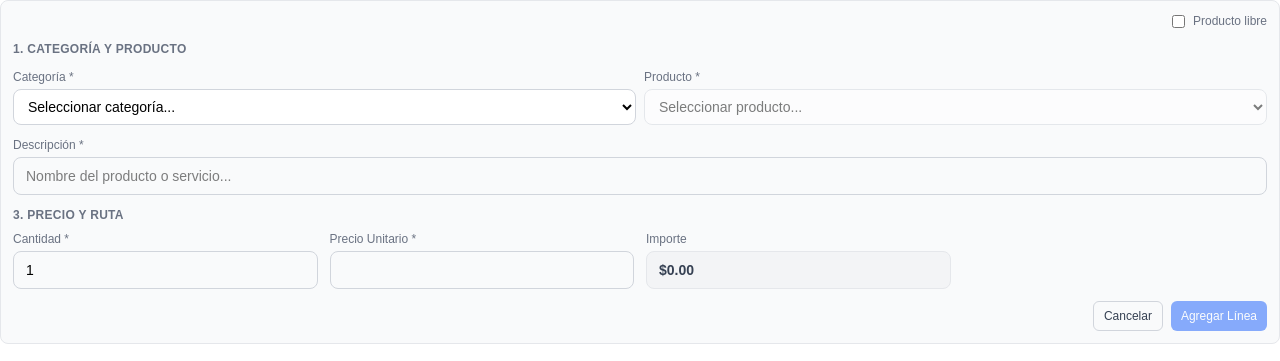
Test: LineaPedido (catálogo) › permite elegir ruta cuando se marca producto libre
Step 1. Click the checkbox → point(1178, 21), box [1172,14,1185,28]
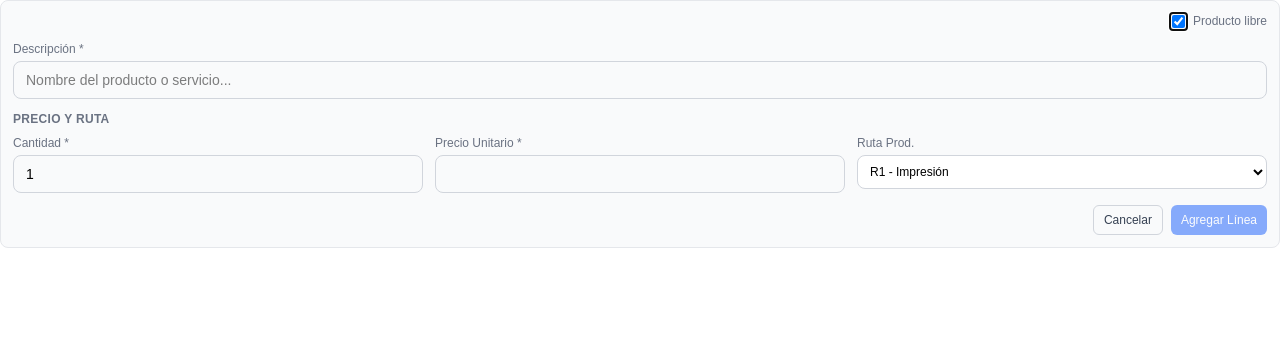
Expected: the dropdown labelled "Ruta Prod." shows "R1 - Impresión", [857,155,1267,189]
